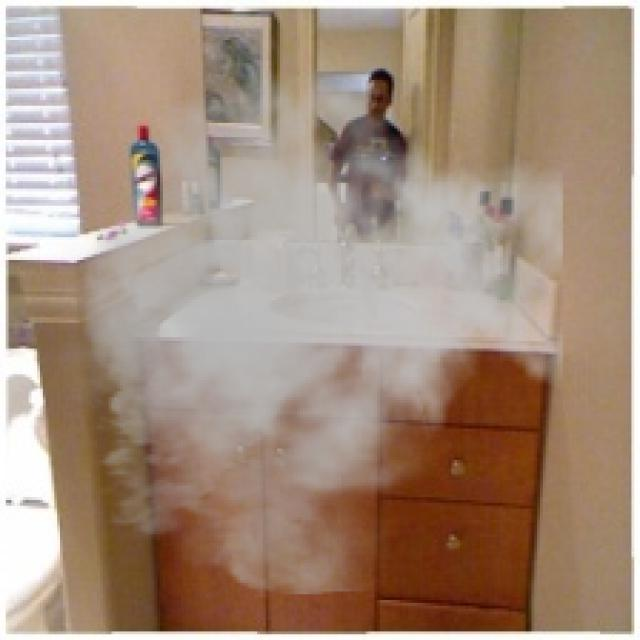smoke: (31, 54, 563, 597)
